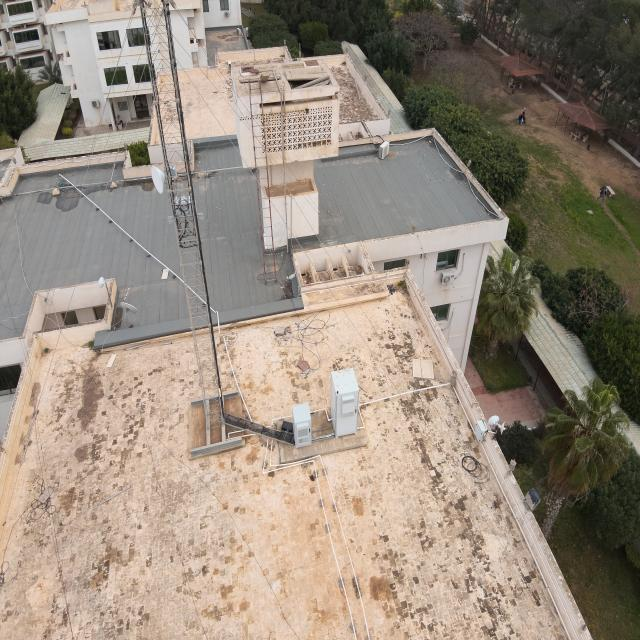microware-dish: (149, 162, 180, 195)
power-box: (173, 193, 195, 219)
